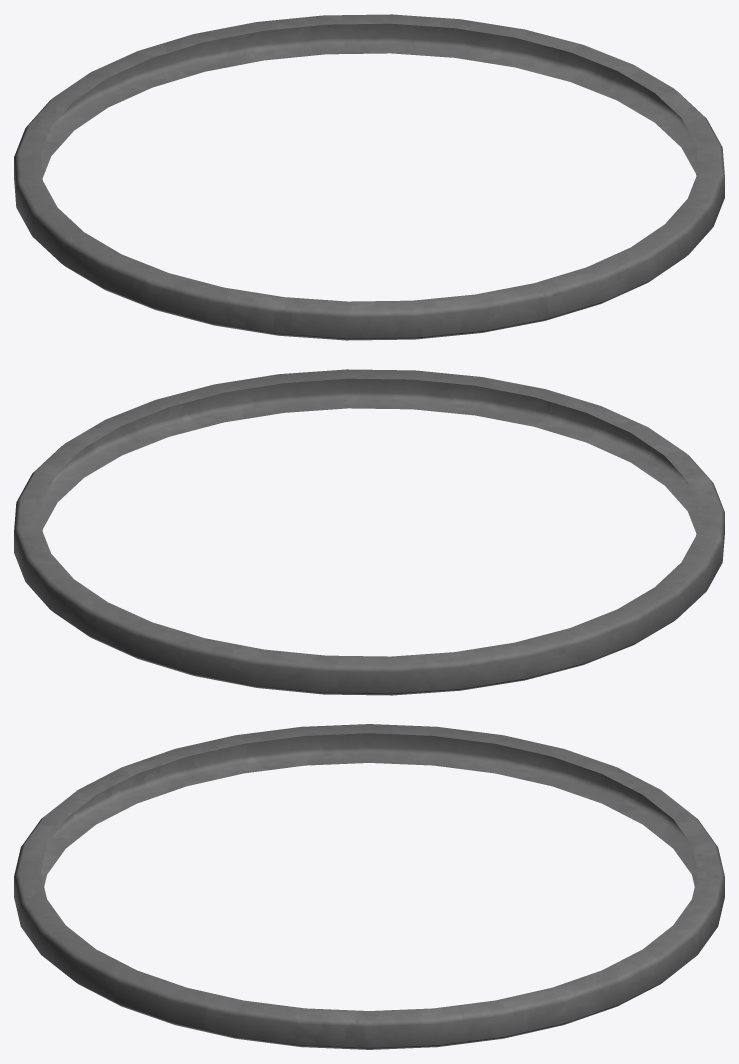
The model's file is Tower_TrimV2.fbx.
3 views of the same model, one above another, from view 1: azimuth 30°, elevation 25°; view 2: azimuth 150°, elevation 25°; view 3: azimuth 270°, elevation 25° (orthographic).
Parts seen in each view (by area): view 1: Tower_TrimV2; view 2: Tower_TrimV2; view 3: Tower_TrimV2.
Boxes of the visible parts, x1,y1,x2,y2 form: Tower_TrimV2: (14, 14, 724, 340); Tower_TrimV2: (14, 369, 724, 695); Tower_TrimV2: (14, 724, 724, 1049).
Bounding box in the file's own units: 538 × 24.77 × 538.
Materials: 1 (1 with a texture image).
